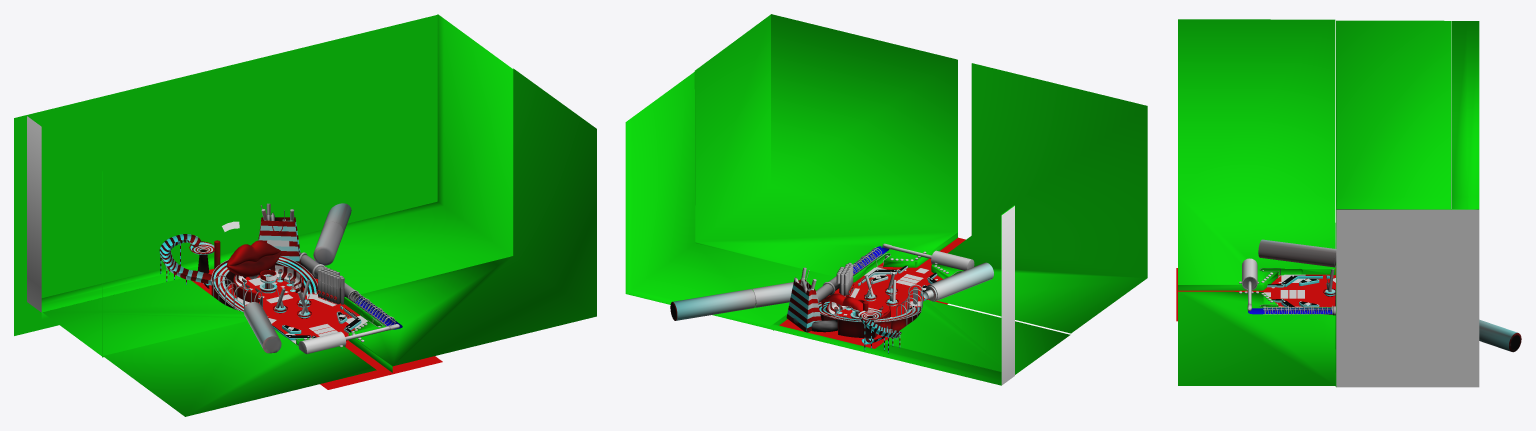
Rendered from model-flipper13.glb.
3 views of the same model, side by side, from view 1: azimuth 30°, elevation 25°; view 2: azimuth 150°, elevation 25°; view 3: azimuth 270°, elevation 25° (orthographic). The views are drawn at different scales.
Parts seen in each view (by area): view 1: ground, wall-black-white, bag-lipstick, giant-lips, launcher-stick, lipstick-lot, blanket; view 2: ground, bag-lipstick, wall-black-white, launcher-stick, tube; view 3: ground, bag-lipstick, launcher-stick.
Part boxes in pixels (left/top/right/bottom): ground: left=14, top=14, right=596, bottom=416; wall-black-white: left=159, top=217, right=361, bottom=340; bag-lipstick: left=214, top=203, right=351, bottom=353; giant-lips: left=226, top=240, right=281, bottom=276; launcher-stick: left=298, top=324, right=399, bottom=353; lipstick-lot: left=318, top=267, right=344, bottom=304; blanket: left=233, top=264, right=303, bottom=302; ground: left=625, top=14, right=1147, bottom=385; bag-lipstick: left=670, top=262, right=993, bottom=337; wall-black-white: left=786, top=269, right=936, bottom=353; launcher-stick: left=882, top=243, right=974, bottom=270; tube: left=793, top=276, right=847, bottom=332; ground: left=1176, top=19, right=1479, bottom=387; bag-lipstick: left=1258, top=239, right=1521, bottom=352; launcher-stick: left=1242, top=258, right=1257, bottom=311.
Bounding box in the file's own units: 19.29 × 9.58 × 14.34.
